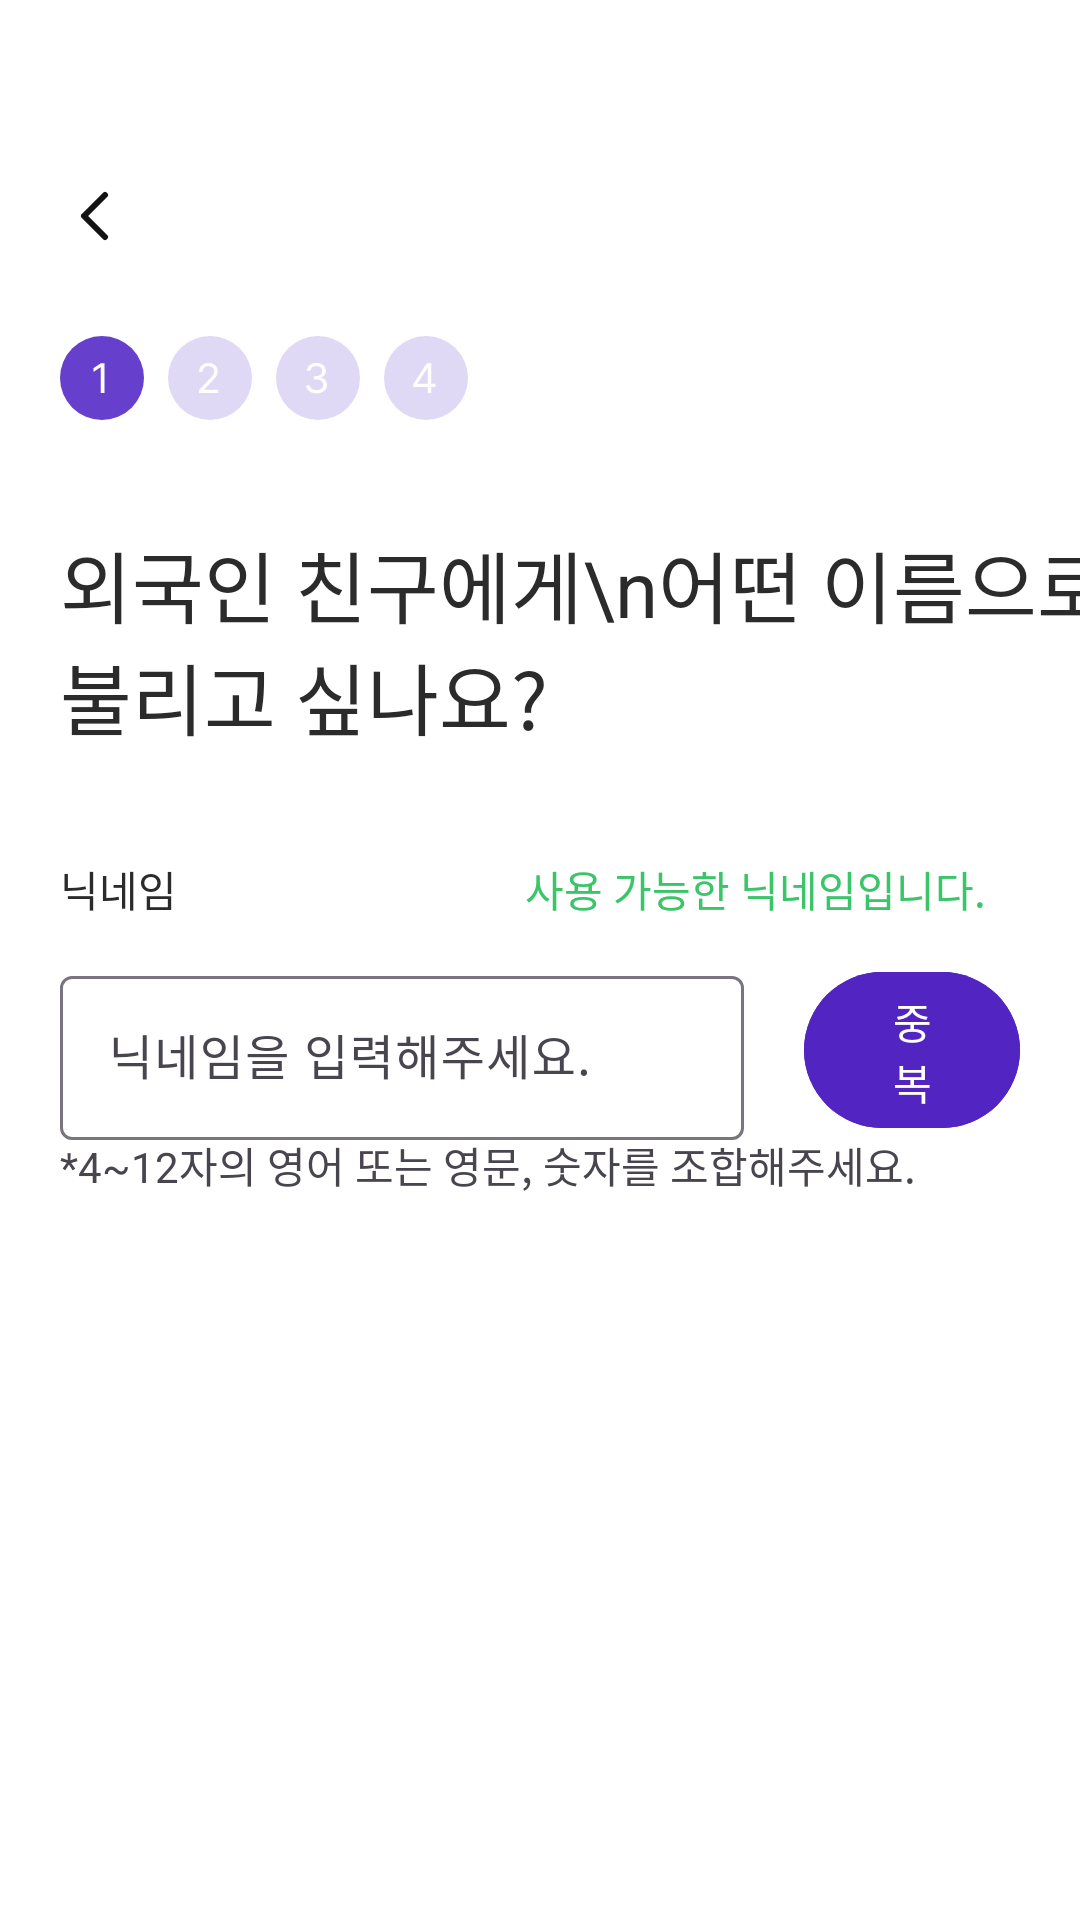

Where to tap for icons on this 1080px x 1920px app screen, as [x,y]:
chevron left: [94,216]
register num: [210,378], [318,378], [426,378]
register num sel: [102,378]
